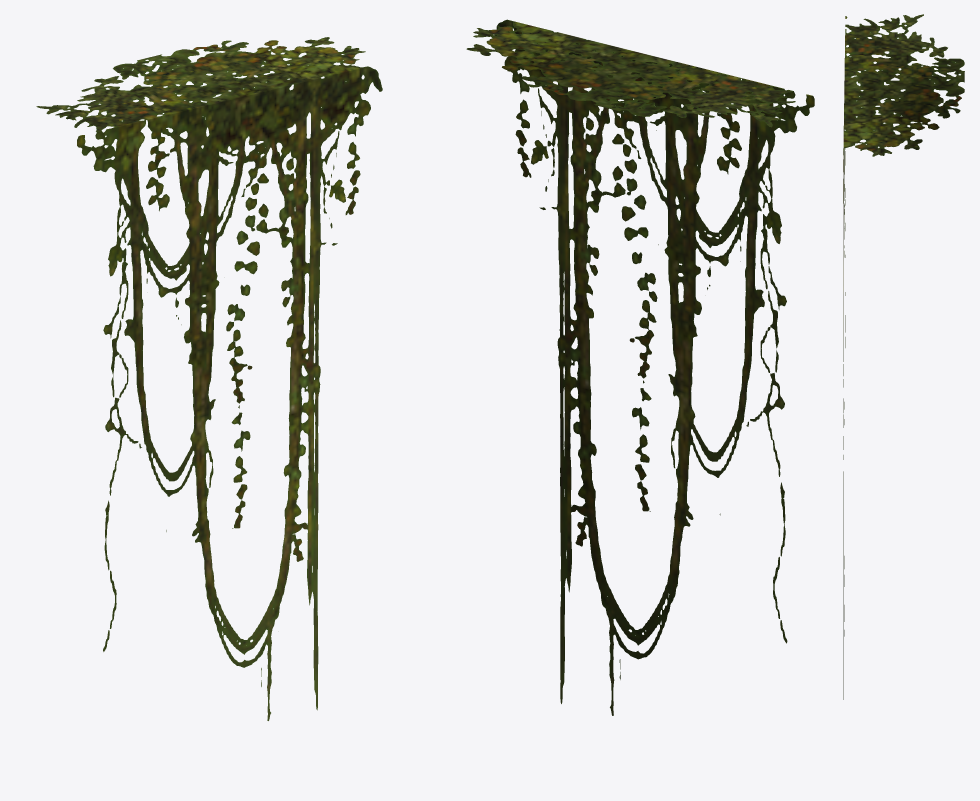
Rendered from fxmg_tengman2.FBX.
The picture shows the model from 3 angles, left to right: view 1: azimuth 30°, elevation 25°; view 2: azimuth 150°, elevation 25°; view 3: azimuth 270°, elevation 25°; orthographic projection. The views are drawn at different scales.
Visible parts, largest first — view 1: KLMSM_tengman2; view 2: KLMSM_tengman2; view 3: KLMSM_tengman2.
Boxes of the visible parts, box(x1,y1,x2,y2) form: KLMSM_tengman2: box(36, 37, 382, 720); KLMSM_tengman2: box(466, 19, 814, 715); KLMSM_tengman2: box(843, 14, 964, 699).
Size of the model in its own units: 174 by 348 by 61.53.
